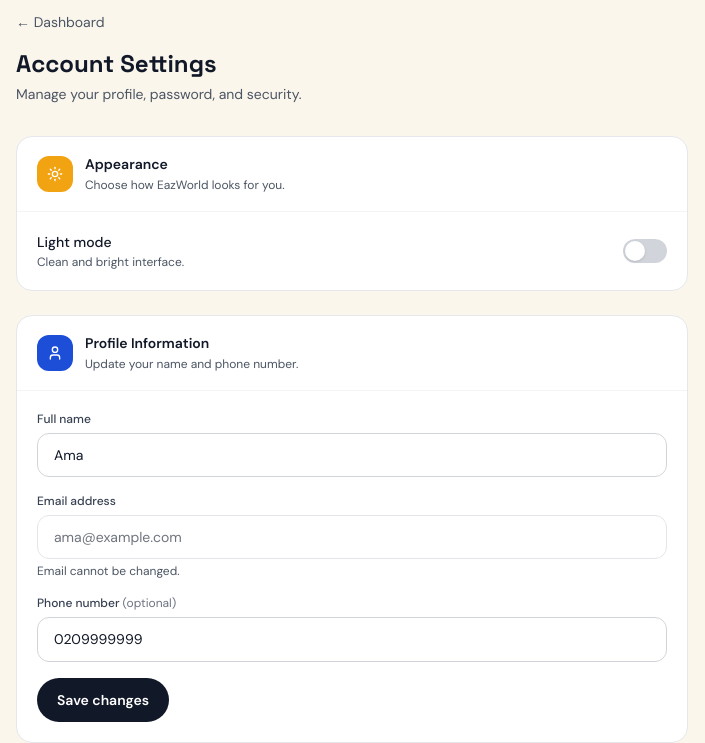
it: Settings — phone change needs an SMS code (T84) › posts the code to the confirm endpoint and returns to the form
Replace the text in the field labelled "Phone number (optional)" with "0244000111" at {"x": 352, "y": 640}, box [37,617,667,662]
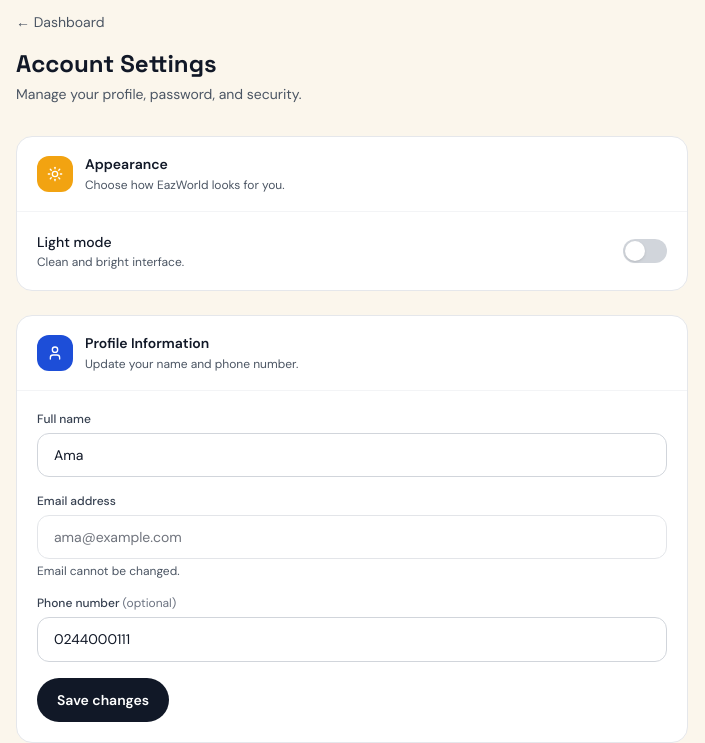
Click the button "Save changes" at {"x": 103, "y": 700}, box [37,678,169,722]
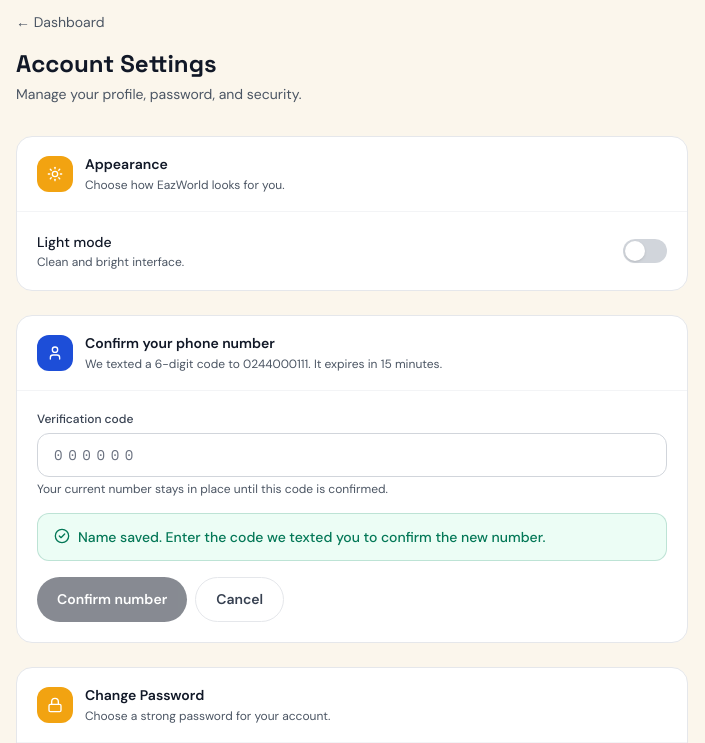
Type "123456" into the field labelled "Verification code" at {"x": 352, "y": 455}, box [37,433,667,477]
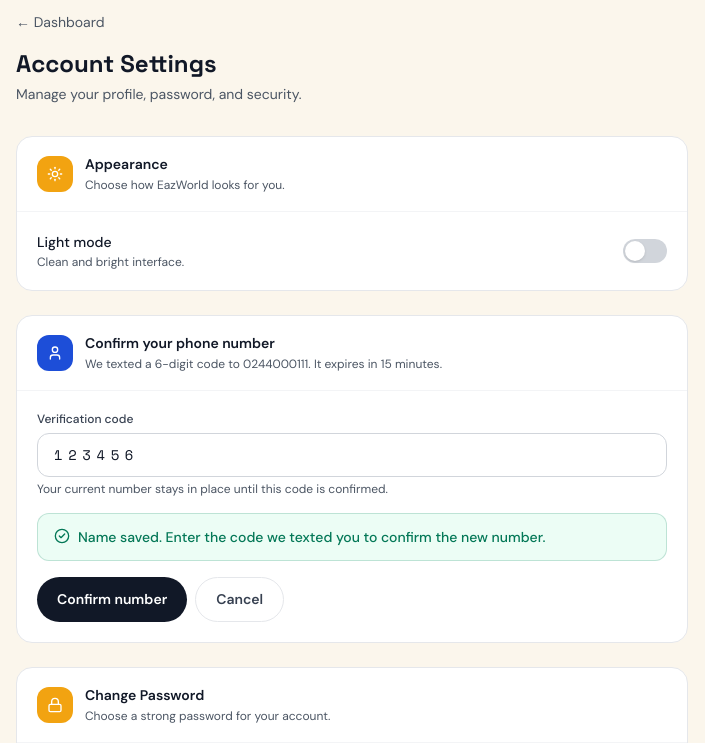
Click the button "Confirm number" at {"x": 112, "y": 600}, box [37,577,187,622]
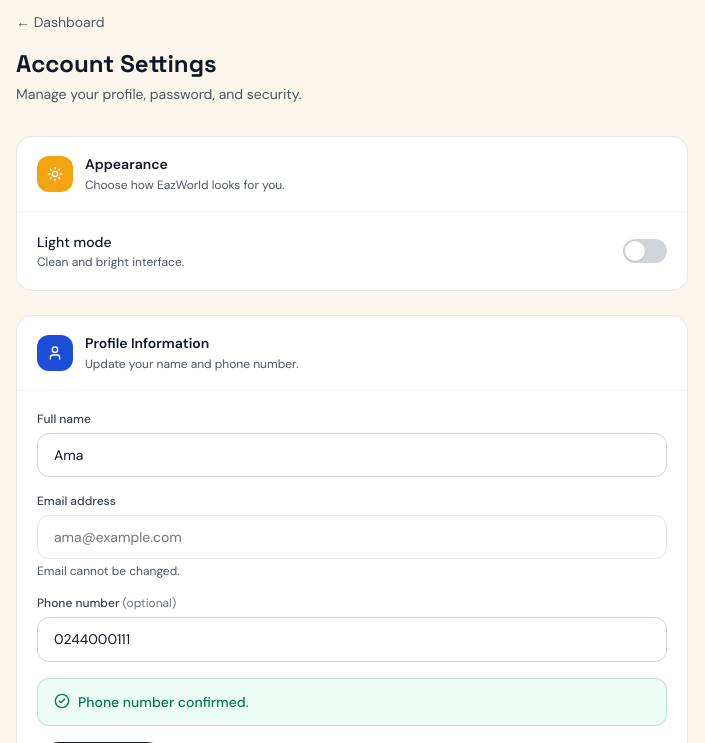
expect the text "Phone number confirmed." is shown: met, box [78,691,249,713]
